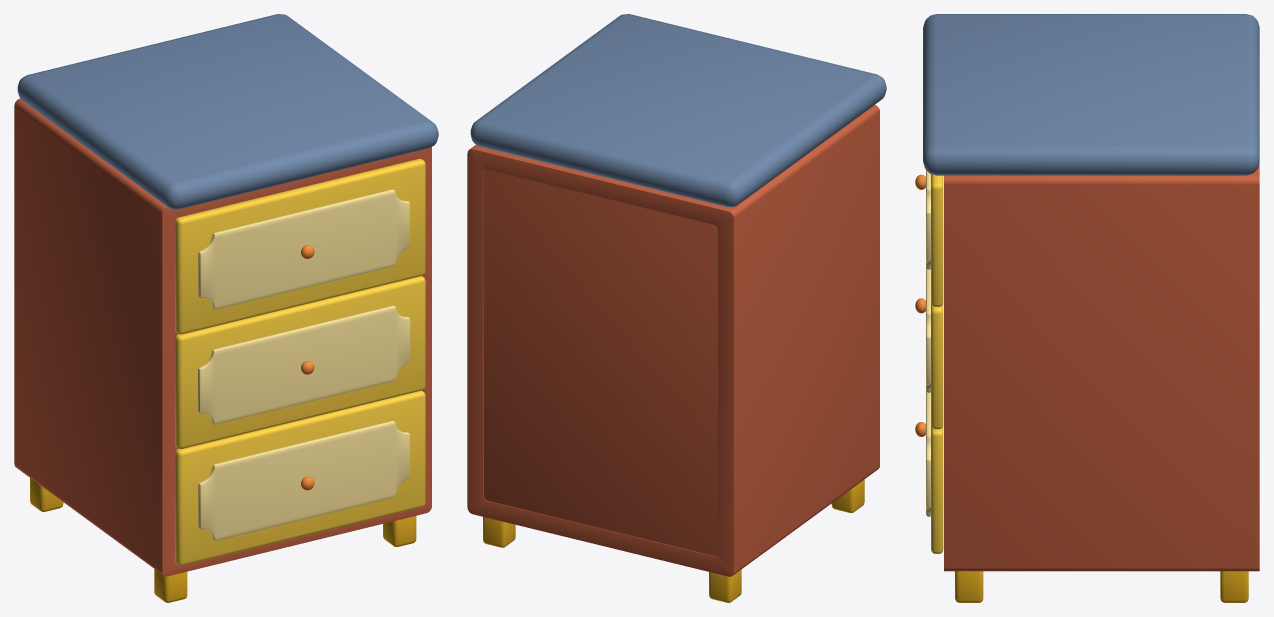
File: gaveteiro_cozinha_largo_3gavetas_classica.glb
3 renders of one model, left to right at view 1: azimuth 30°, elevation 25°; view 2: azimuth 150°, elevation 25°; view 3: azimuth 270°, elevation 25°, orthographic. The views are drawn at different scales.
Visible parts, largest first — view 1: gaveteiro_cozinha_largo_3gavetas_classica, gaveta_1, gaveta_3, gaveta_2; view 2: gaveteiro_cozinha_largo_3gavetas_classica; view 3: gaveteiro_cozinha_largo_3gavetas_classica, gaveta_3, gaveta_2, gaveta_1.
Part boxes in pixels (<box>): gaveteiro_cozinha_largo_3gavetas_classica: <box>14,14,438,602</box>; gaveta_1: <box>175,158,425,334</box>; gaveta_3: <box>175,390,425,565</box>; gaveta_2: <box>175,276,425,448</box>; gaveteiro_cozinha_largo_3gavetas_classica: <box>467,14,886,602</box>; gaveteiro_cozinha_largo_3gavetas_classica: <box>923,14,1259,602</box>; gaveta_3: <box>915,391,943,553</box>; gaveta_2: <box>915,268,943,429</box>; gaveta_1: <box>915,170,943,306</box>.
Size of the model in its own units: 0.598 by 0.9 by 0.6131.
Materials: 1 (1 with a texture image).
